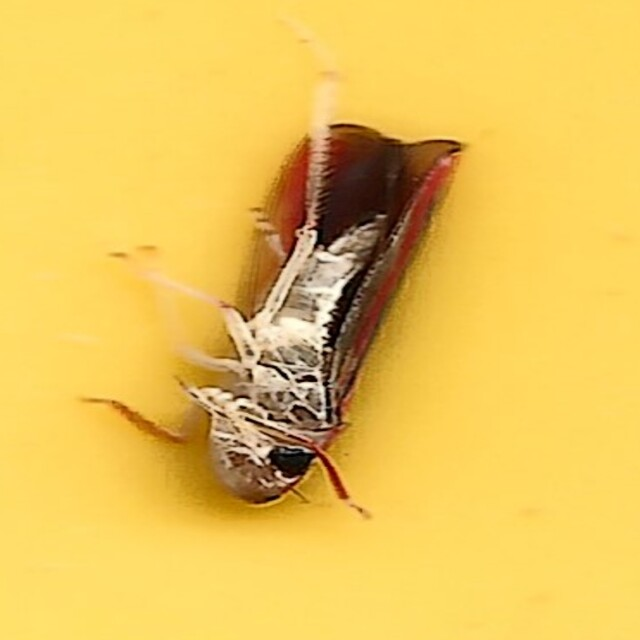Hemiptera: (173, 123, 467, 517)
